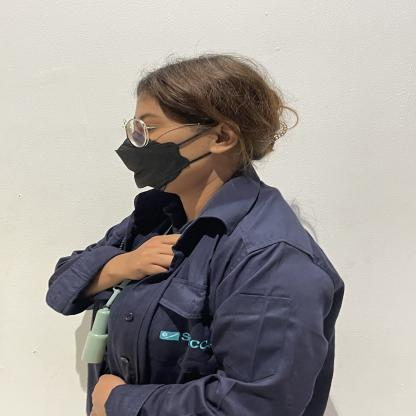Sadness: (29, 217, 234, 331)
